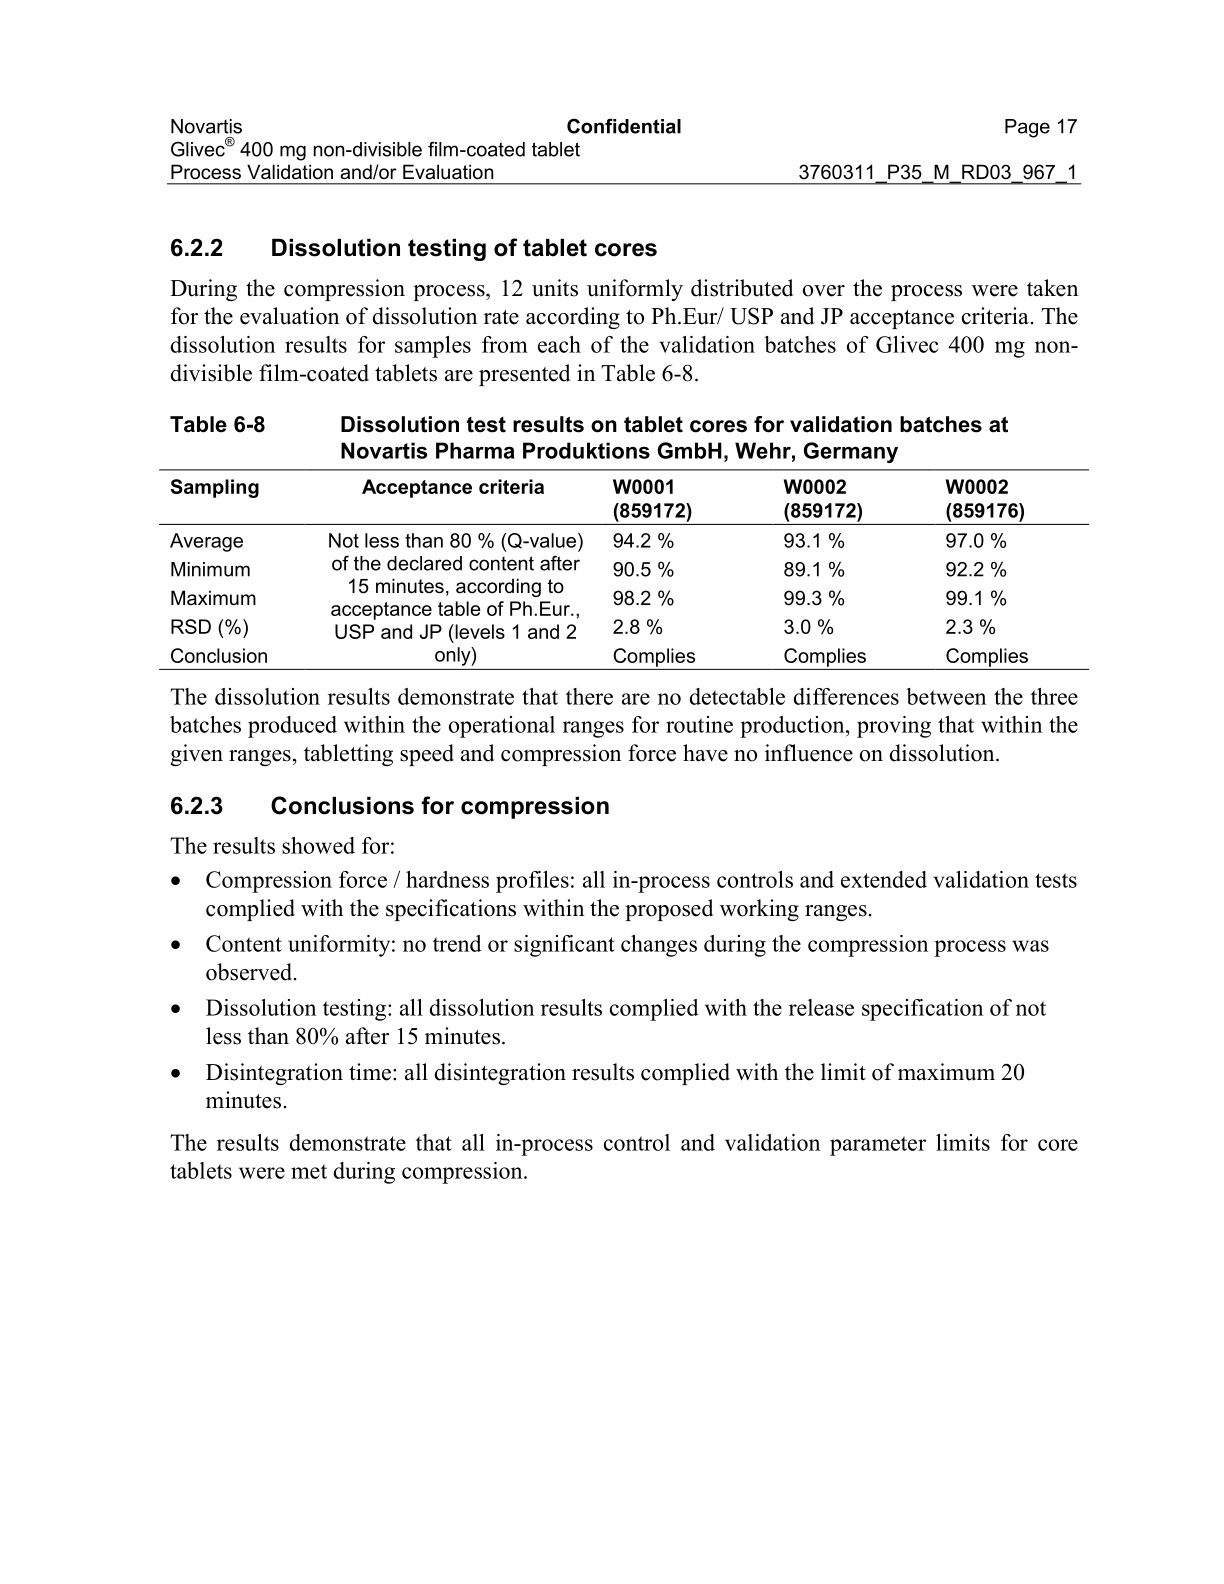partial_lined: (158, 467, 1090, 671)
